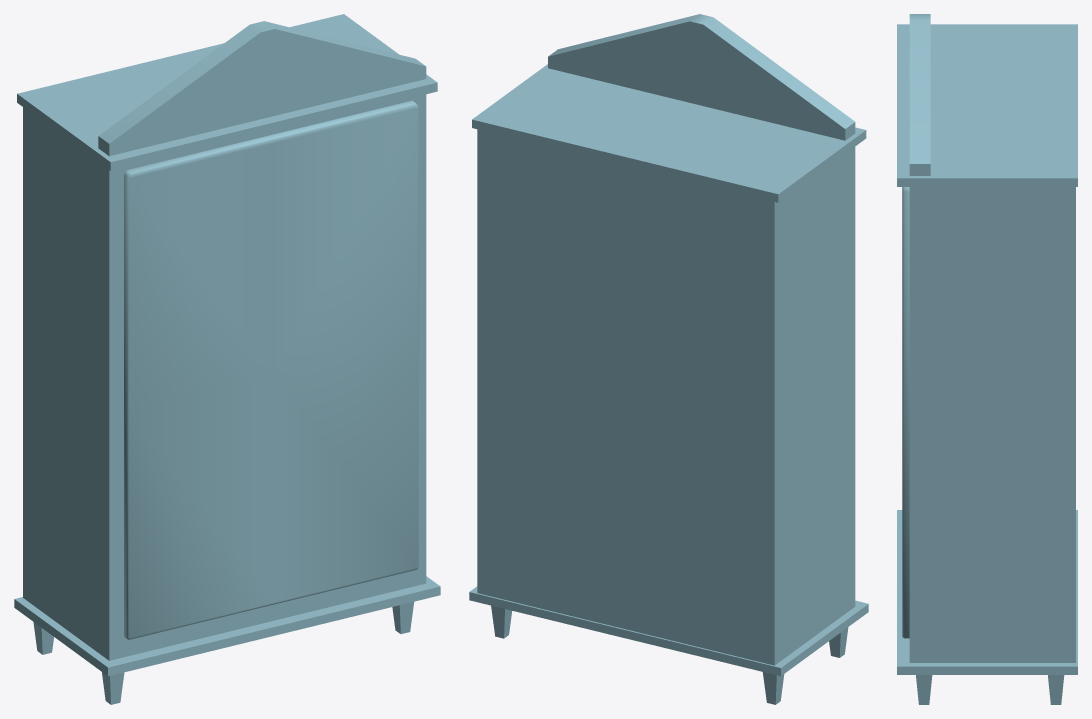
File: lo_Prop_Cabinet_A.fbx
The picture shows the model from 3 angles, left to right: view 1: azimuth 30°, elevation 25°; view 2: azimuth 150°, elevation 25°; view 3: azimuth 270°, elevation 25°; orthographic projection. The views are drawn at different scales.
Visible parts, largest first — view 1: lo_Prop_Cabinet_A_LOD0; view 2: lo_Prop_Cabinet_A_LOD0; view 3: lo_Prop_Cabinet_A_LOD0.
Part boxes in pixels (x1,y1,x2,y2): lo_Prop_Cabinet_A_LOD0: (14,14,440,704); lo_Prop_Cabinet_A_LOD0: (469,14,868,704); lo_Prop_Cabinet_A_LOD0: (897,14,1077,704).
Size of what is drawn, in the model's own units: 1.96 by 3.61 by 0.9566.
